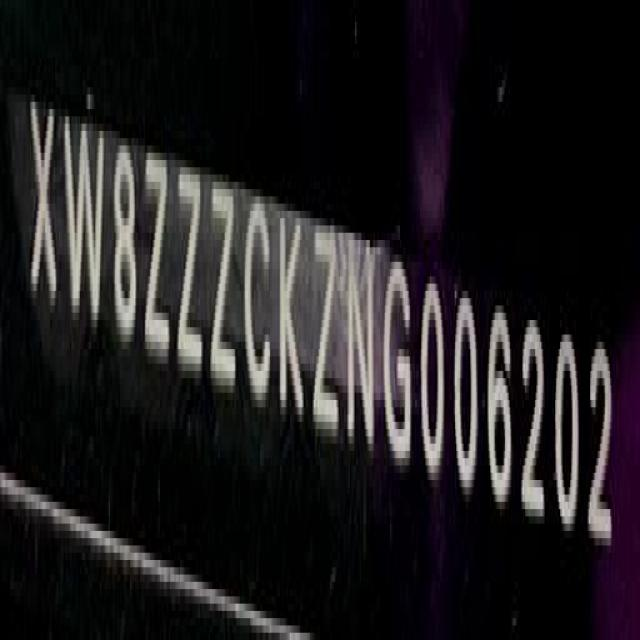0: (419, 270, 446, 486), (454, 288, 481, 502), (556, 328, 582, 540)
2: (520, 317, 548, 531), (590, 334, 617, 554)
6: (486, 298, 514, 516)
8: (114, 135, 138, 351)
C: (244, 191, 274, 409)
G: (382, 245, 416, 470)
K: (278, 203, 306, 424)
N: (345, 222, 378, 460)
W: (62, 105, 105, 338)
X: (26, 88, 58, 322)
Z: (312, 215, 339, 447), (210, 175, 238, 398), (142, 148, 169, 372), (177, 157, 202, 386)
